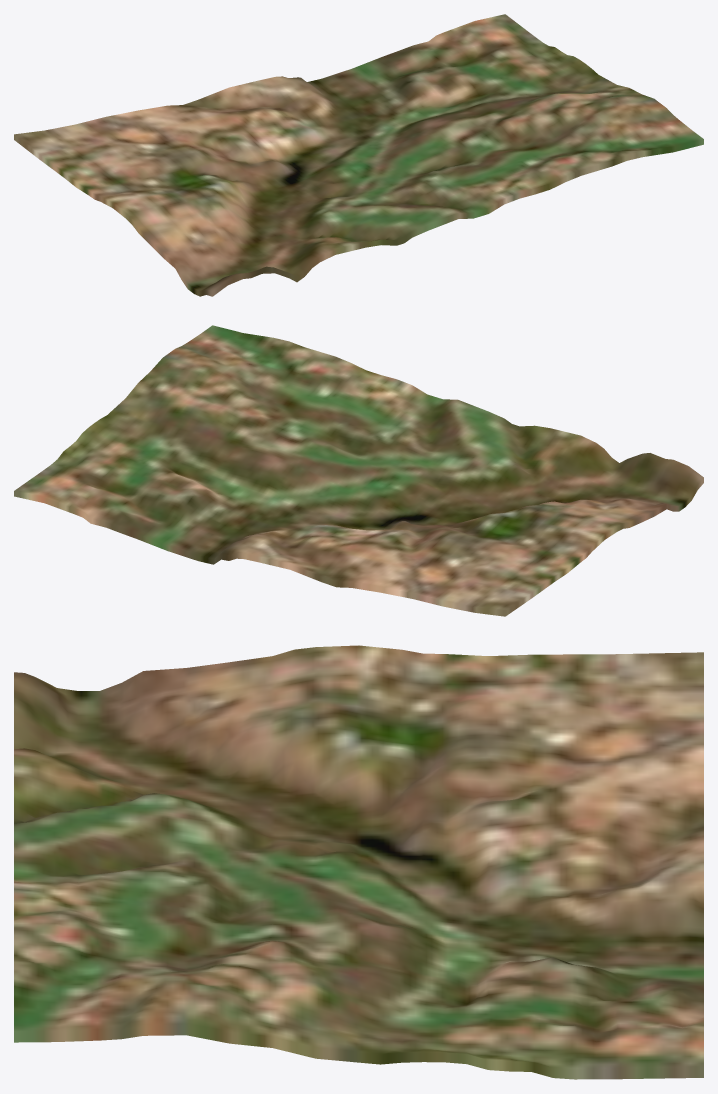
File: terrain_r2_c0_lod2.glb
3 renders of one model, top to bottom at view 1: azimuth 30°, elevation 25°; view 2: azimuth 150°, elevation 25°; view 3: azimuth 270°, elevation 25°, orthographic. The views are drawn at different scales.
Parts seen in each view (by area): view 1: terrain_r2_c0_lod2; view 2: terrain_r2_c0_lod2; view 3: terrain_r2_c0_lod2.
Boxes of the visible parts, <box> form: terrain_r2_c0_lod2: <box>14,14,703,296</box>; terrain_r2_c0_lod2: <box>14,325,703,616</box>; terrain_r2_c0_lod2: <box>14,645,703,1079</box>.
Size of the model in its own units: 1125 by 119 by 787.
Materials: 1 (1 with a texture image).
